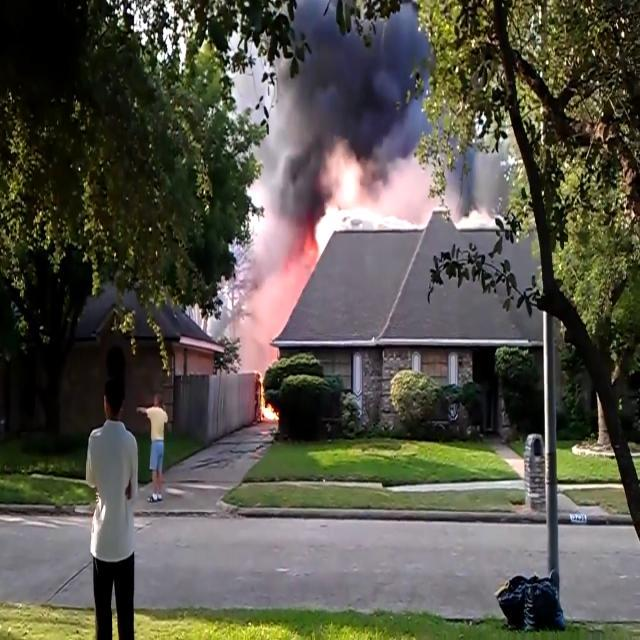Fire: (254, 369, 280, 432)
Smoke: (250, 1, 480, 236)
